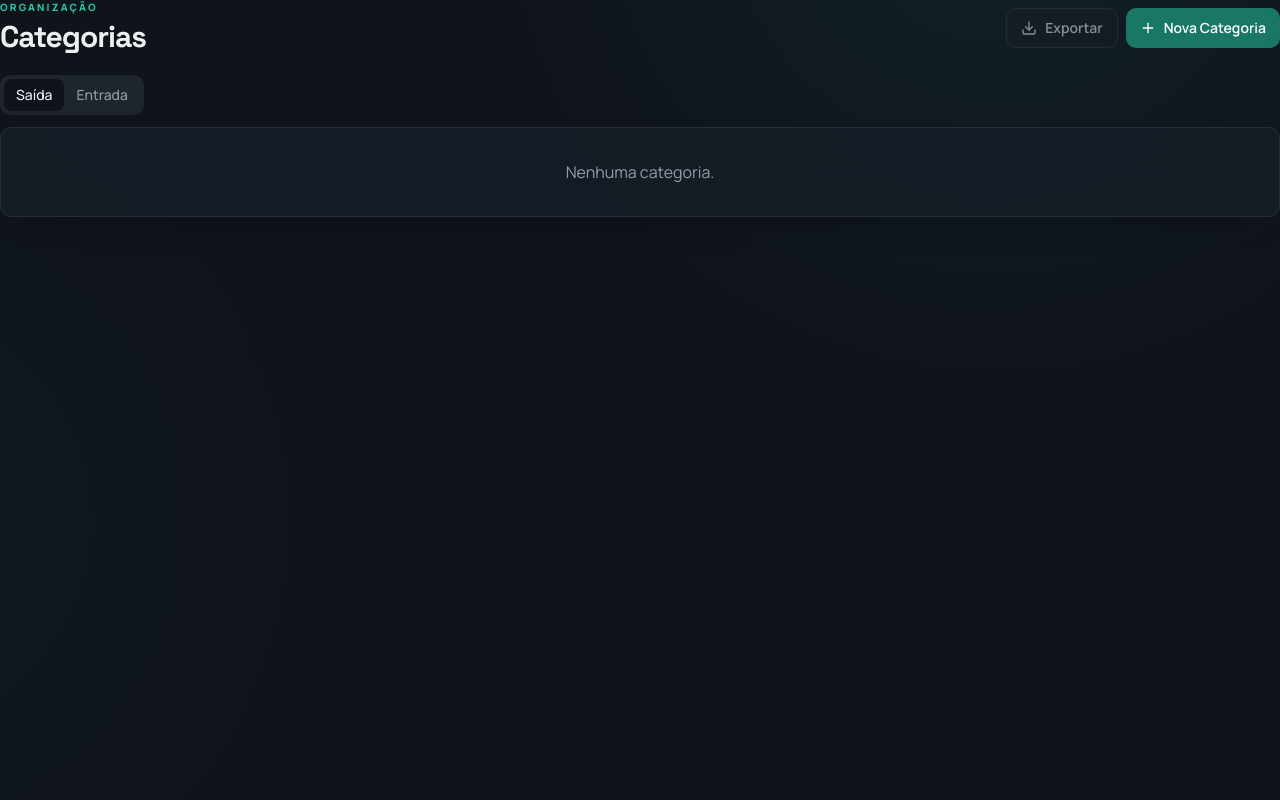
Scenario: Categories monthly budget › rejects the non-positive budget -10
Click the button "Nova Categoria".
click(1203, 28)  # box [1126,8,1279,48]
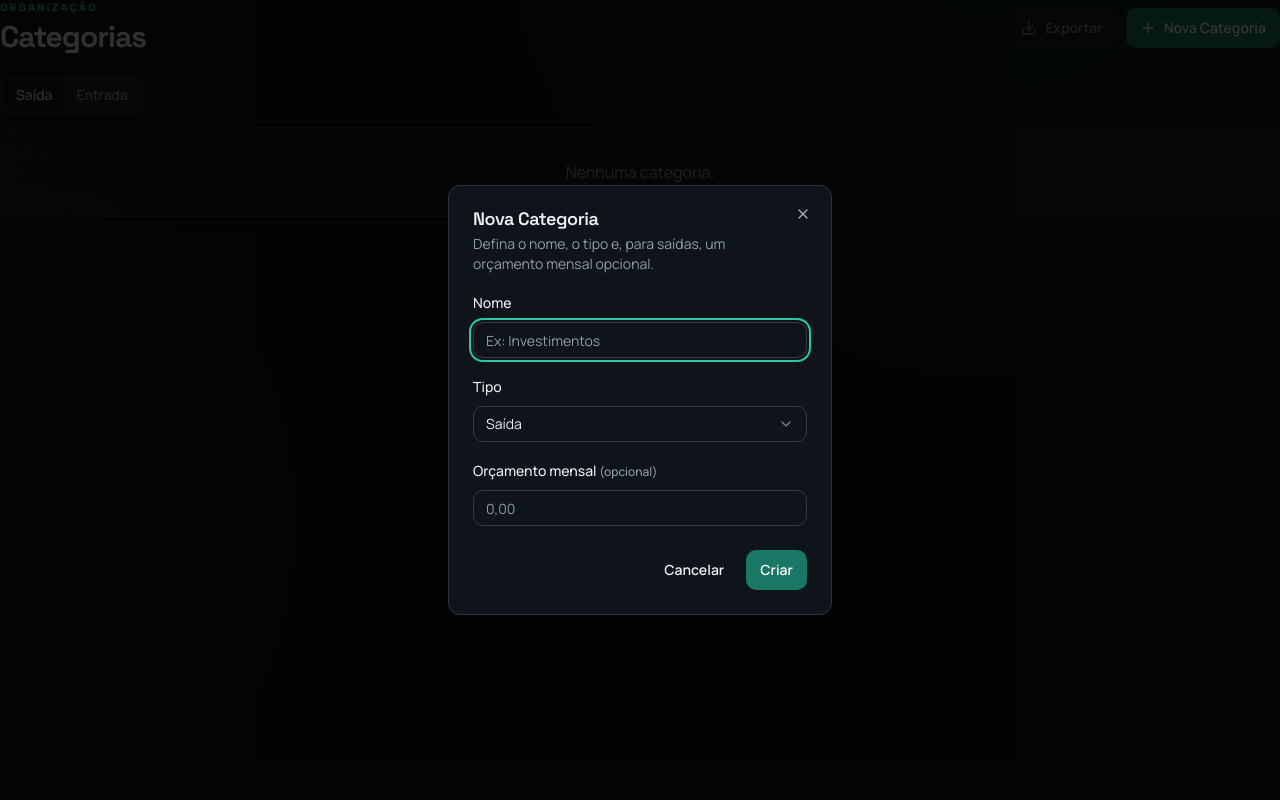
Type "Mercado" into the field with placeholder "Ex: Investimentos".
click(640, 340); type("Mercado")  # box [473,322,807,358]
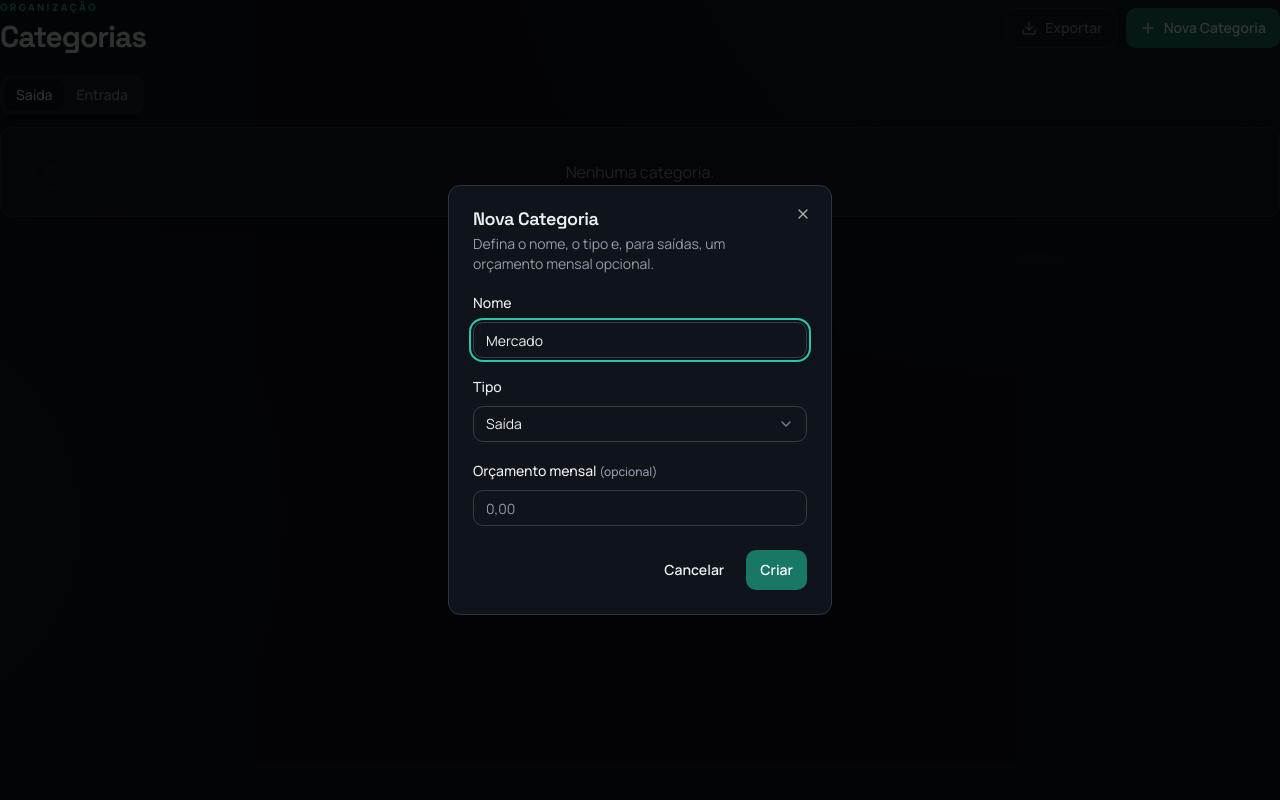
Type "-10" into the number field.
click(640, 508); type("-10")  # box [473,490,807,526]
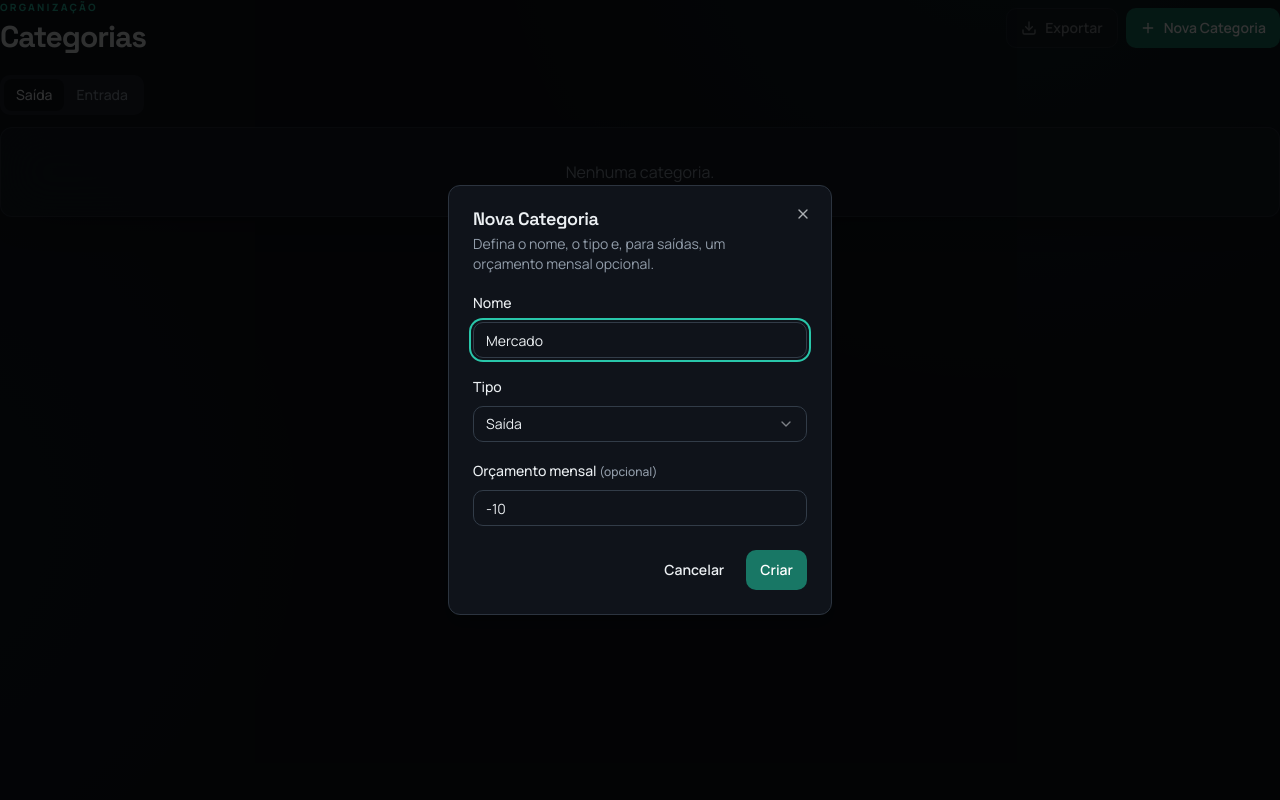
Submit the form with placeholder "Ex: Investimentos", box [473,290,807,590]
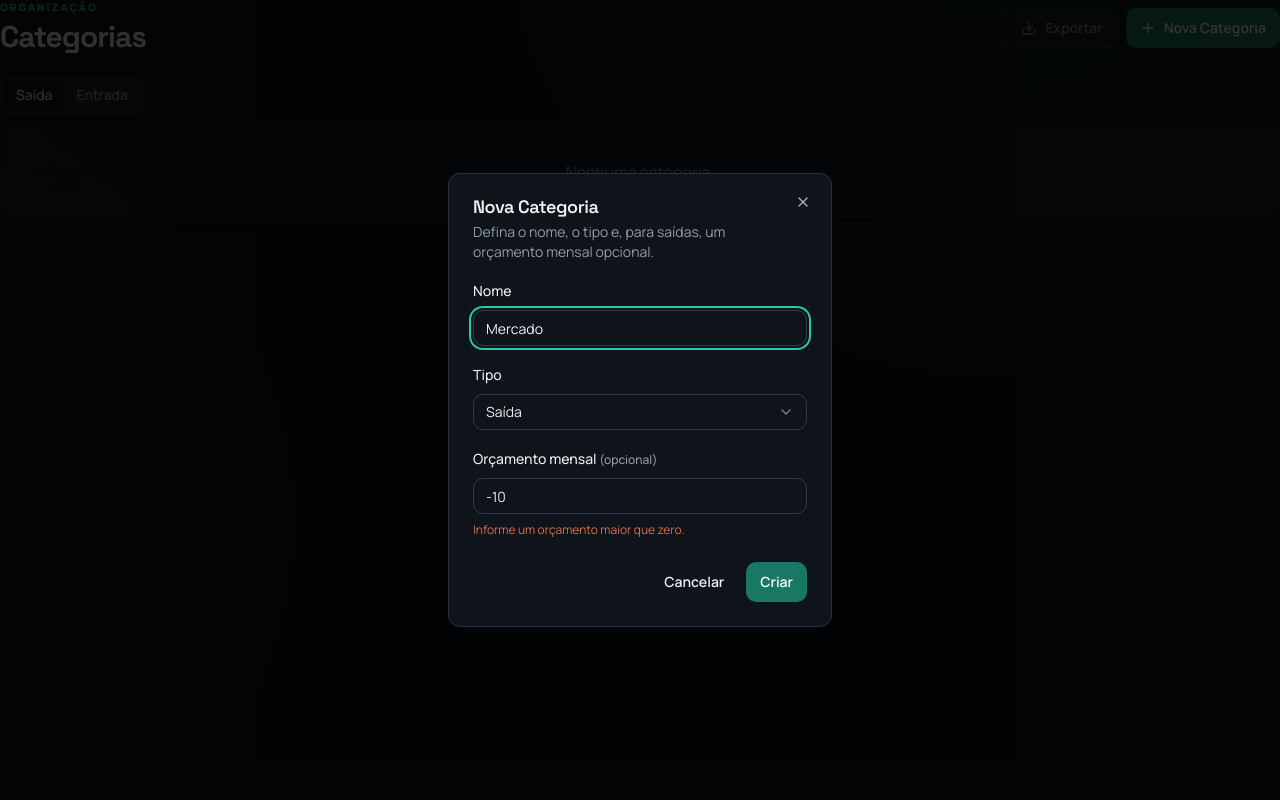
Now the text "Informe um orçamento maior que zero." is shown, box [473,521,684,538]
